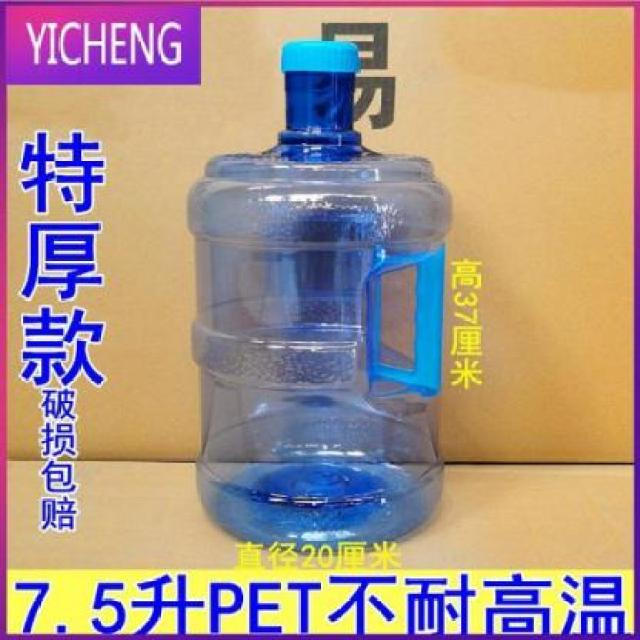coolerbottle: (178, 36, 460, 554)
